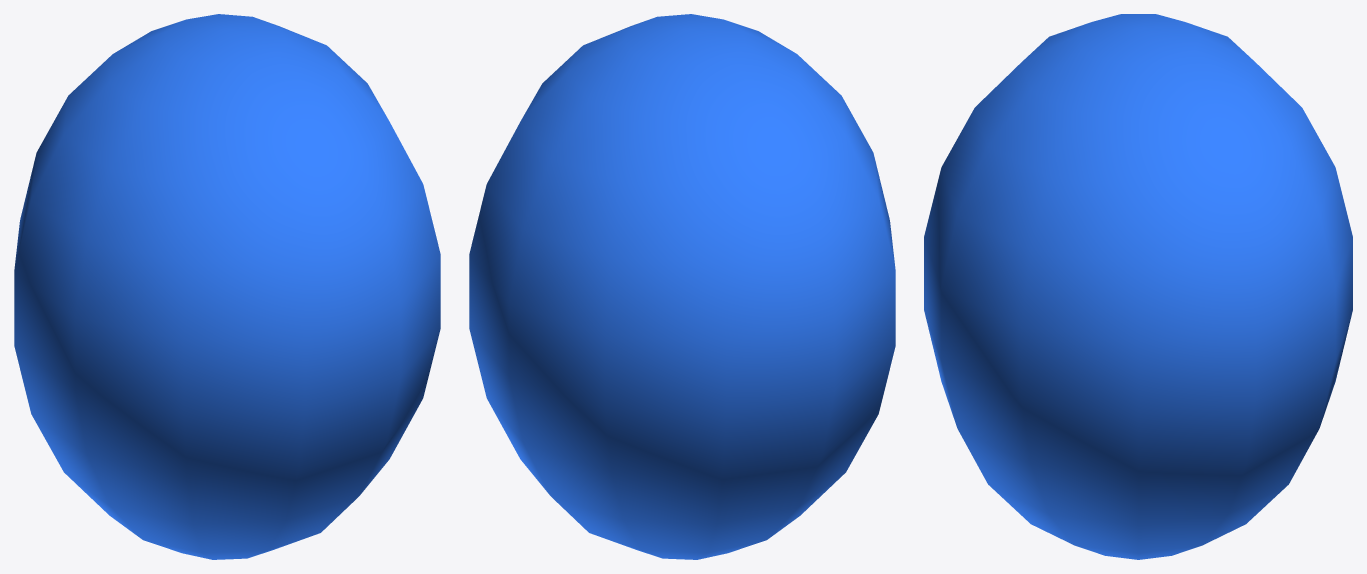
Rendered from orvalume_stage3.obj.
The picture shows the model from 3 angles, left to right: view 1: azimuth 30°, elevation 25°; view 2: azimuth 150°, elevation 25°; view 3: azimuth 270°, elevation 25°; orthographic projection.
Bounding box in the file's own units: 2.72 × 3.64 × 2.74.
